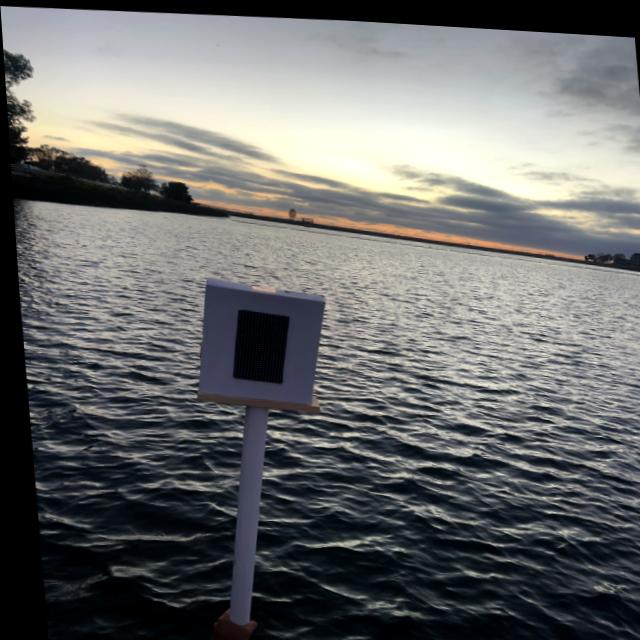led: (209, 289, 305, 400)
